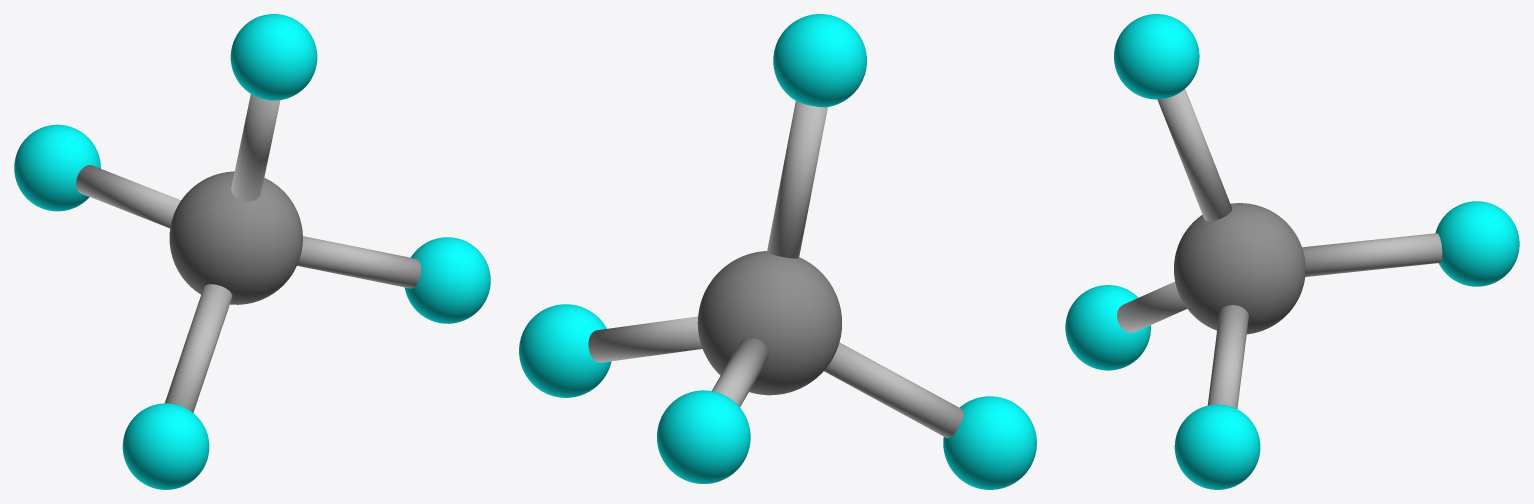
The model's file is methane.glb.
3 renders of one model, left to right at view 1: azimuth 30°, elevation 25°; view 2: azimuth 150°, elevation 25°; view 3: azimuth 270°, elevation 25°, orthographic. The views are drawn at different scales.
Visible parts, largest first — view 1: CMAtom_0; view 2: CMAtom_0; view 3: CMAtom_0.
Boxes of the visible parts, x1,y1,x2,y2 form: CMAtom_0: [14, 14, 490, 489]; CMAtom_0: [519, 14, 1036, 489]; CMAtom_0: [1065, 14, 1519, 489].
Bounding box in the file's own units: 0.2195 × 0.2127 × 0.2122.
